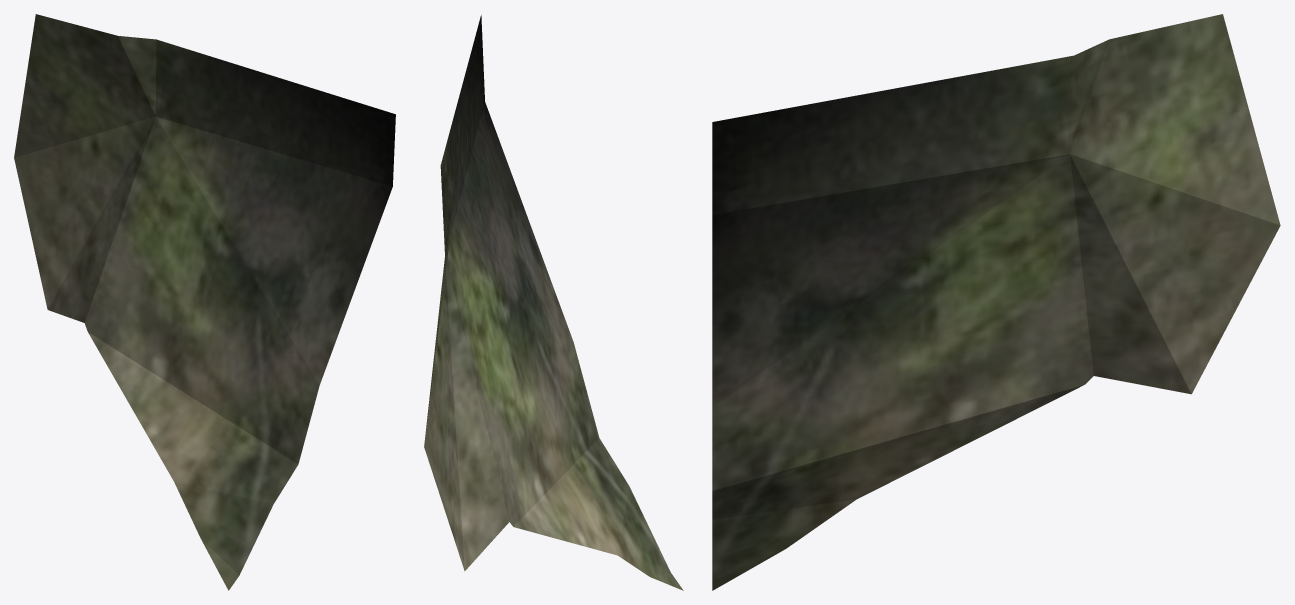
The picture shows the model from 3 angles, left to right: view 1: azimuth 30°, elevation 25°; view 2: azimuth 150°, elevation 25°; view 3: azimuth 270°, elevation 25°; orthographic projection. The views are drawn at different scales.
Bounding box in the file's own units: 2.54 × 6.31 × 5.63.
1 material, 1 textured.
